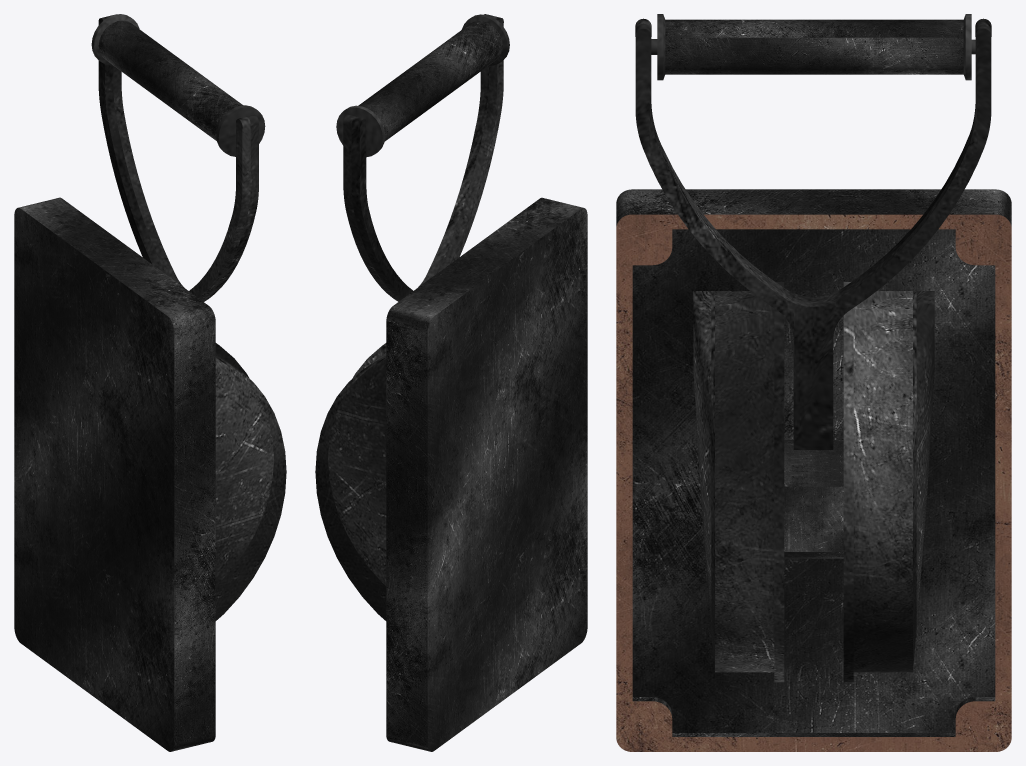
Rendered from vintageSwitch2.glb.
3 renders of one model, left to right at view 1: azimuth 30°, elevation 25°; view 2: azimuth 150°, elevation 25°; view 3: azimuth 270°, elevation 25°, orthographic. The views are drawn at different scales.
Visible parts, largest first — view 1: vintageSwitch.001, vintageSwitch.002; view 2: vintageSwitch.001, vintageSwitch.002; view 3: vintageSwitch.001, vintageSwitch.002.
Part boxes in pixels (box(x1,y1,x2,y2)): vintageSwitch.001: box(14, 197, 286, 751); vintageSwitch.002: box(91, 14, 265, 301); vintageSwitch.001: box(315, 197, 587, 751); vintageSwitch.002: box(336, 14, 509, 301); vintageSwitch.001: box(616, 189, 1011, 751); vintageSwitch.002: box(635, 14, 991, 558).
Bounding box in the file's own units: 0.115 × 0.4247 × 0.2.
2 materials, 2 textured.
